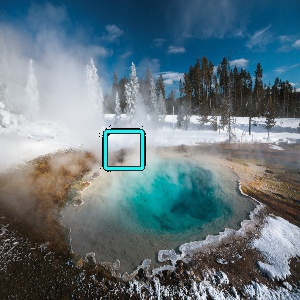square: (103, 127, 145, 173)
